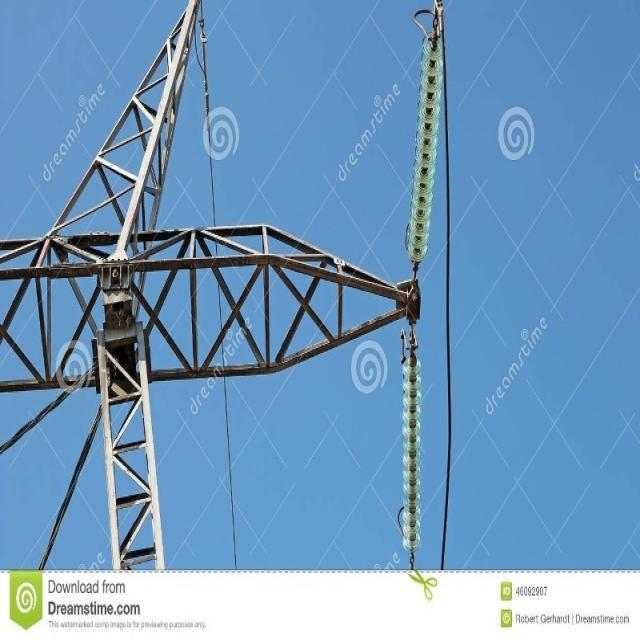non-critical vegetation: (2, 6, 413, 562)
